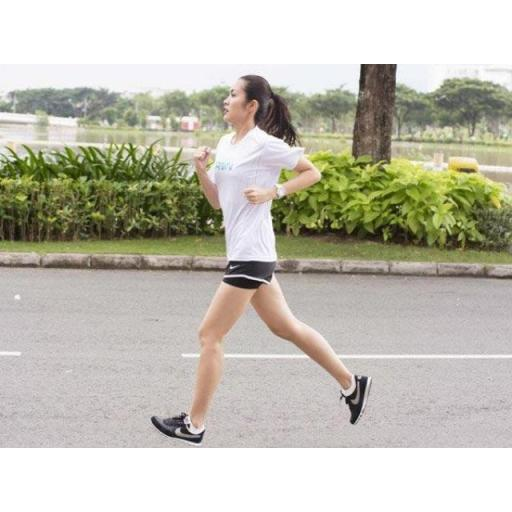Running: (152, 66, 383, 448)
